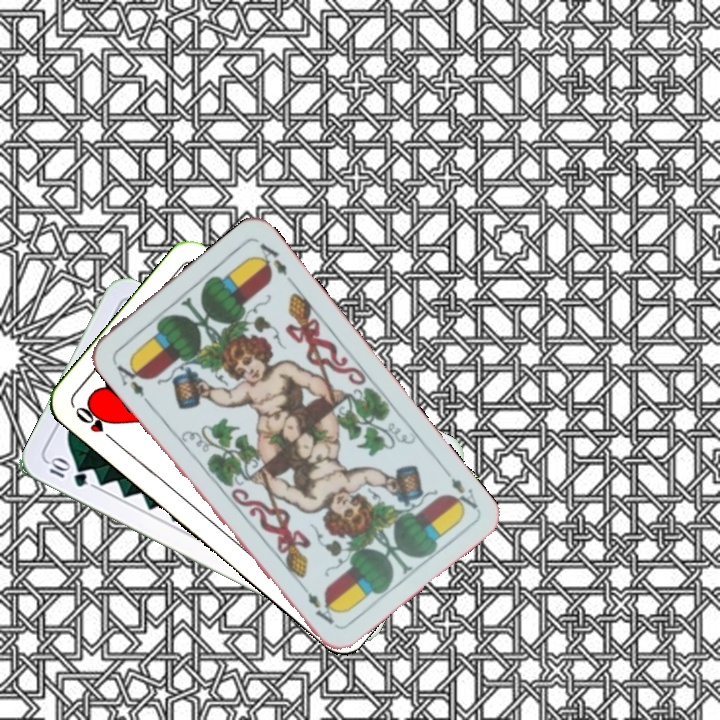EA: (438, 463, 481, 515), (108, 356, 151, 406)
G10: (43, 454, 90, 490)
HO: (71, 400, 119, 446)
